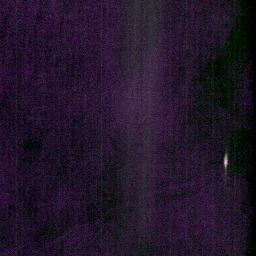Ship: (221, 153, 230, 169)
